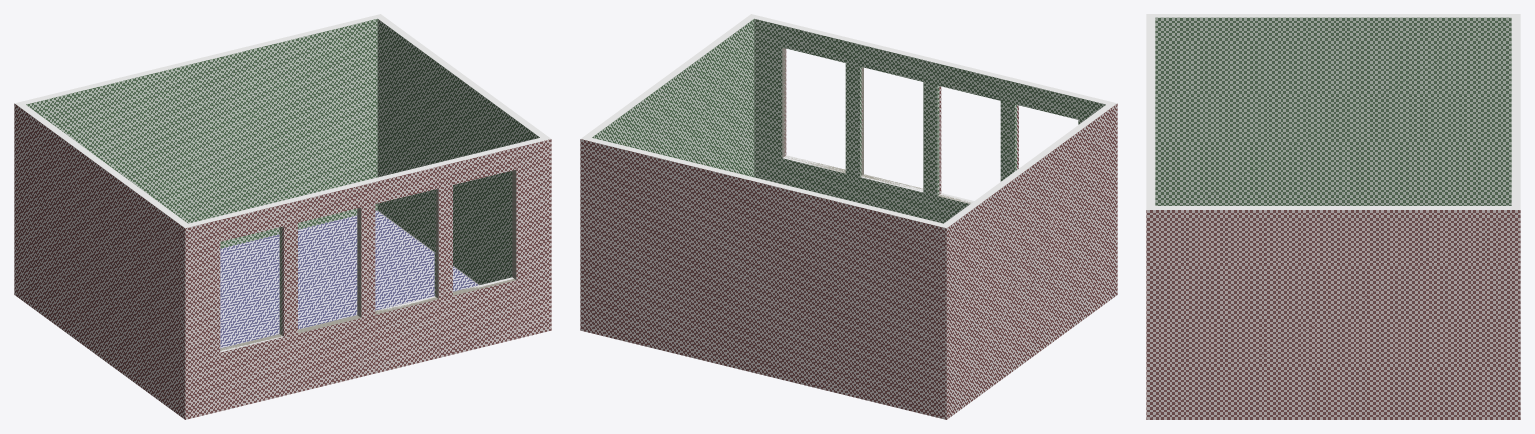
The model's file is WindowedRoom5x4.obj.
3 views of the same model, side by side, from view 1: azimuth 30°, elevation 25°; view 2: azimuth 150°, elevation 25°; view 3: azimuth 270°, elevation 25° (orthographic). The views are drawn at different scales.
Visible parts, largest first — view 1: wall_3_17, wall_1_4, wall_2_10, wall_4_23, room_5_26, wall_1_6, wall_3_18, wall_3_19, wall_1_7, default_1_28, wall_1_5, default_1_30 (+6 smaller); view 2: wall_3_16, wall_2_10, wall_1_5, wall_4_23, wall_1_4, wall_1_6, wall_3_18, wall_1_7, wall_3_19, wall_4_24, wall_2_12, wall_2_13 (+3 smaller); view 3: wall_4_22, wall_2_11, wall_1_7, wall_3_19, wall_1_6, wall_3_18, wall_4_24, wall_2_12, wall_2_13, wall_4_25.
Boxes of the visible parts, x1,y1,x2,y2 form: wall_3_17: [26, 19, 377, 248]; wall_1_4: [185, 139, 551, 419]; wall_2_10: [14, 103, 185, 419]; wall_4_23: [377, 19, 539, 284]; room_5_26: [220, 210, 478, 348]; wall_1_6: [185, 138, 550, 228]; wall_3_18: [15, 14, 380, 103]; wall_3_19: [21, 16, 378, 104]; wall_1_7: [187, 137, 544, 225]; default_1_28: [298, 207, 361, 333]; wall_1_5: [222, 189, 513, 348]; default_1_30: [453, 170, 516, 295]; wall_3_16: [580, 139, 946, 419]; wall_2_10: [946, 103, 1117, 419]; wall_1_5: [754, 19, 1105, 223]; wall_4_23: [592, 19, 754, 177]; wall_1_4: [784, 48, 1018, 202]; wall_1_6: [751, 14, 1116, 103]; wall_3_18: [581, 138, 946, 228]; wall_1_7: [753, 16, 1110, 104]; wall_3_19: [587, 137, 944, 225]; wall_4_24: [581, 14, 752, 138]; wall_2_12: [945, 103, 1116, 227]; wall_2_13: [944, 104, 1111, 225]; wall_4_22: [1146, 210, 1520, 419]; wall_2_11: [1155, 17, 1511, 205]; wall_1_7: [1150, 16, 1155, 207]; wall_3_19: [1511, 16, 1516, 207]; wall_1_6: [1146, 14, 1150, 209]; wall_3_18: [1516, 14, 1520, 209]; wall_4_24: [1146, 208, 1520, 209]; wall_2_12: [1147, 14, 1519, 15]; wall_2_13: [1151, 16, 1515, 17]; wall_4_25: [1151, 206, 1515, 207].
Size of the model in its own units: 520 by 260 by 420.
